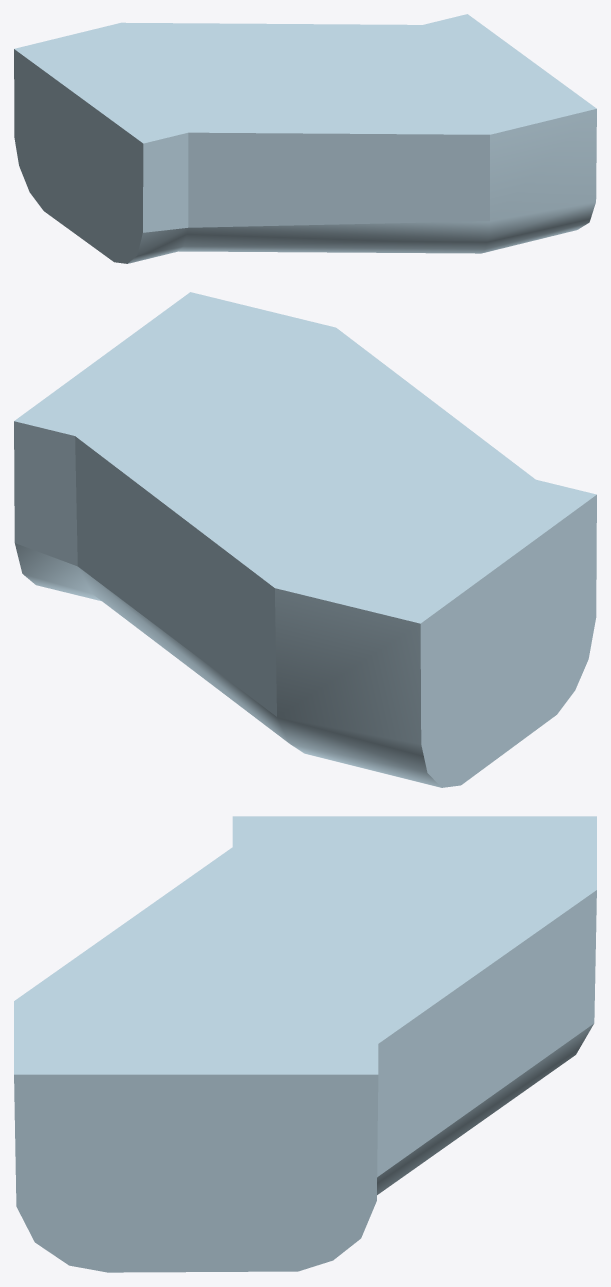
File: LegacyLift.fbx
3 views of the same model, one above another, from view 1: azimuth 30°, elevation 25°; view 2: azimuth 150°, elevation 25°; view 3: azimuth 270°, elevation 25° (orthographic). The views are drawn at different scales.
Parts seen in each view (by area): view 1: Part 1; view 2: Part 1; view 3: Part 1.
Part boxes in pixels (x1,y1,x2,y2): Part 1: (14, 14, 596, 263); Part 1: (14, 292, 596, 787); Part 1: (14, 816, 596, 1272).
Bounding box in the file's own units: 21.3 × 7.61 × 20.32.
